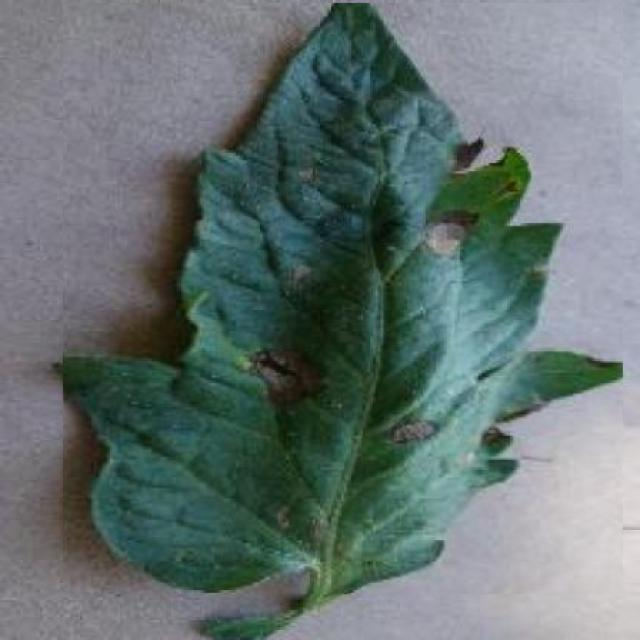Early Blight: (63, 3, 623, 594)
